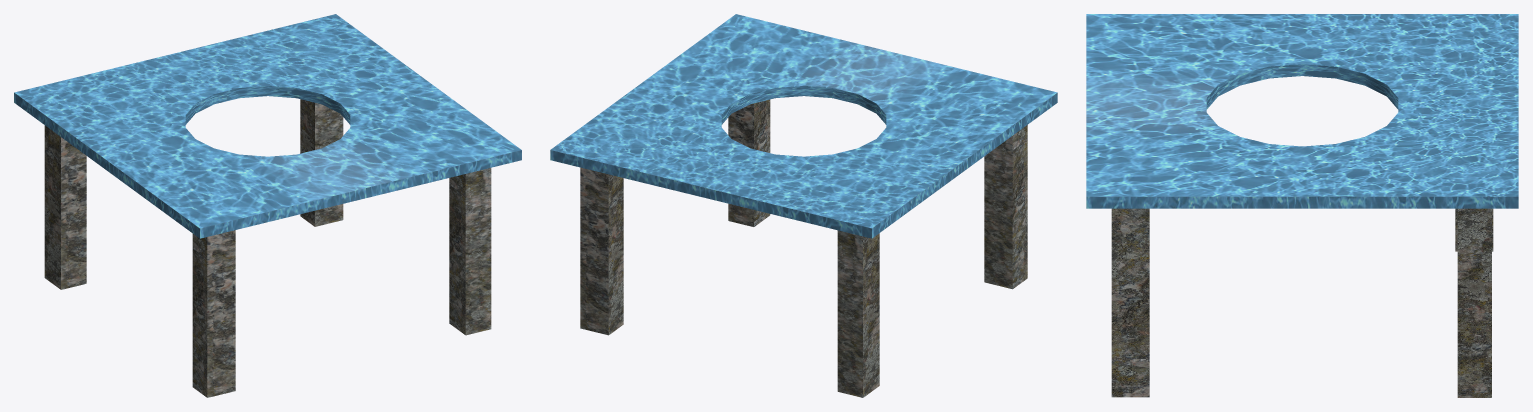
The picture shows the model from 3 angles, left to right: view 1: azimuth 30°, elevation 25°; view 2: azimuth 150°, elevation 25°; view 3: azimuth 270°, elevation 25°; orthographic projection. The views are drawn at different scales.
Visible parts, largest first — view 1: Table; view 2: Table; view 3: Table.
Boxes of the visible parts, x1,y1,x2,y2 form: Table: (14, 14, 521, 397); Table: (550, 14, 1057, 397); Table: (1086, 14, 1518, 397).
Size of the model in its own units: 1 by 0.5414 by 1.
